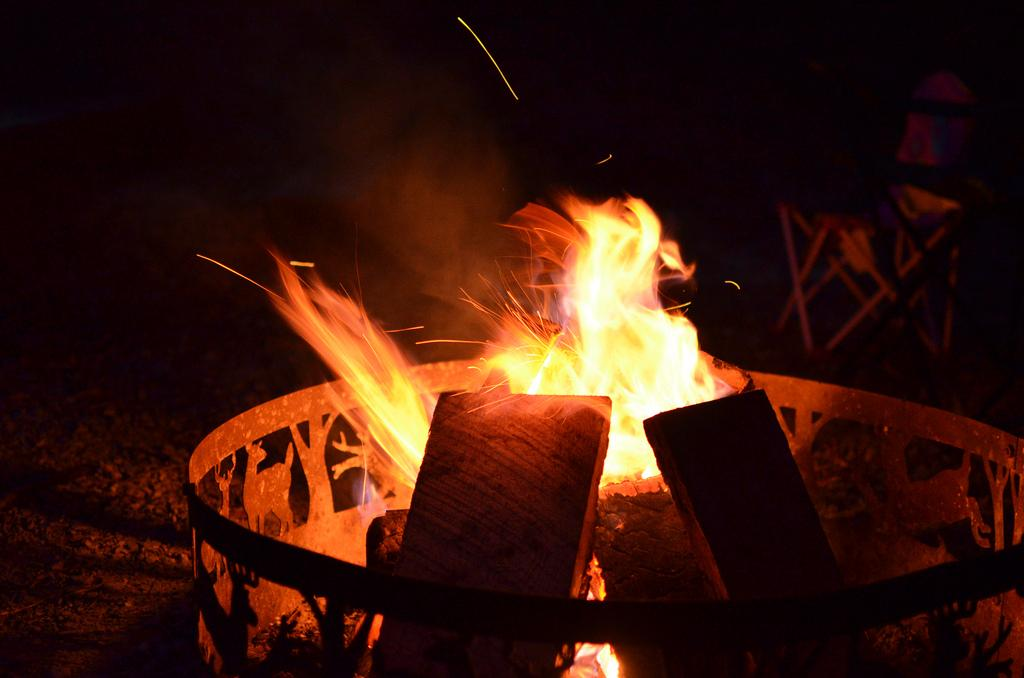fire: (553, 215, 695, 392), (328, 328, 432, 438)
